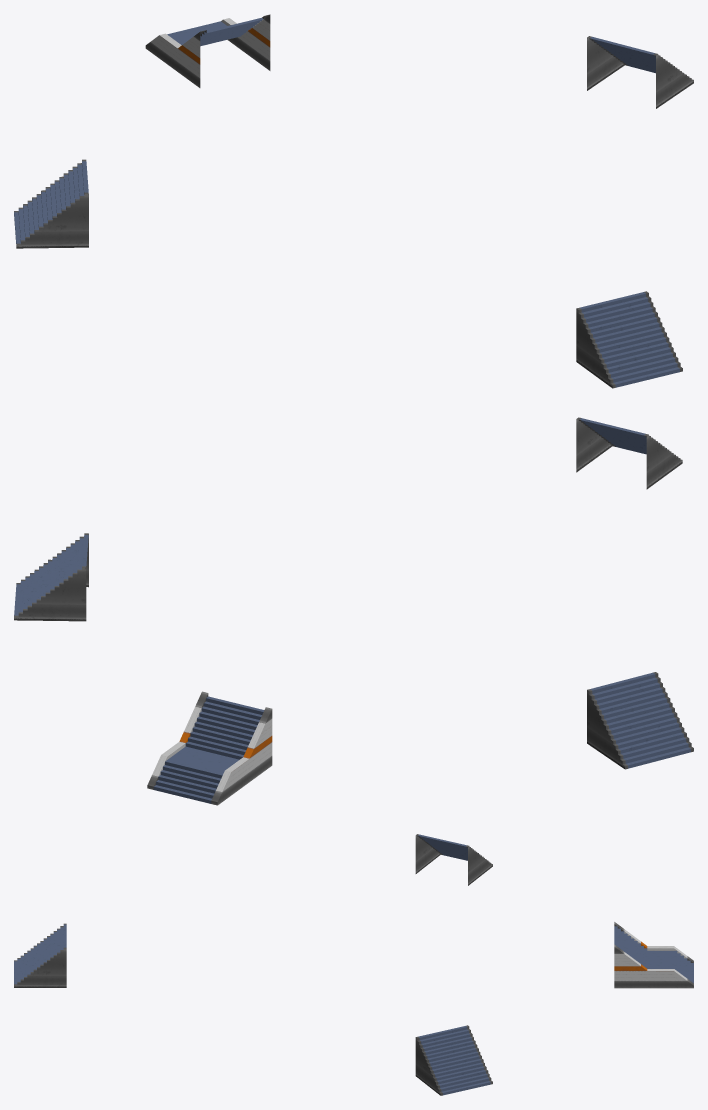
Rendered from CentralStairs.fbx.
The picture shows the model from 3 angles, top to bottom: view 1: azimuth 30°, elevation 25°; view 2: azimuth 150°, elevation 25°; view 3: azimuth 270°, elevation 25°; orthographic projection. The views are drawn at different scales.
Visible parts, largest first — view 1: Cube.005, Cube.004, FrontStairs; view 2: Cube.005, FrontStairs, Cube.004; view 3: Cube.005, FrontStairs, Cube.004.
Part boxes in pixels (left/top/right/bottom): Cube.005: left=14, top=36, right=693, bottom=248; Cube.004: left=576, top=291, right=682, bottom=388; FrontStairs: left=145, top=14, right=270, bottom=87; Cube.005: left=14, top=533, right=693, bottom=769; FrontStairs: left=147, top=691, right=272, bottom=805; Cube.004: left=576, top=417, right=682, bottom=489; Cube.005: left=415, top=834, right=492, bottom=1095; FrontStairs: left=614, top=922, right=693, bottom=988; Cube.004: left=14, top=923, right=66, bottom=987.
Size of the model in its own units: 58.42 by 4.7 by 69.6.
